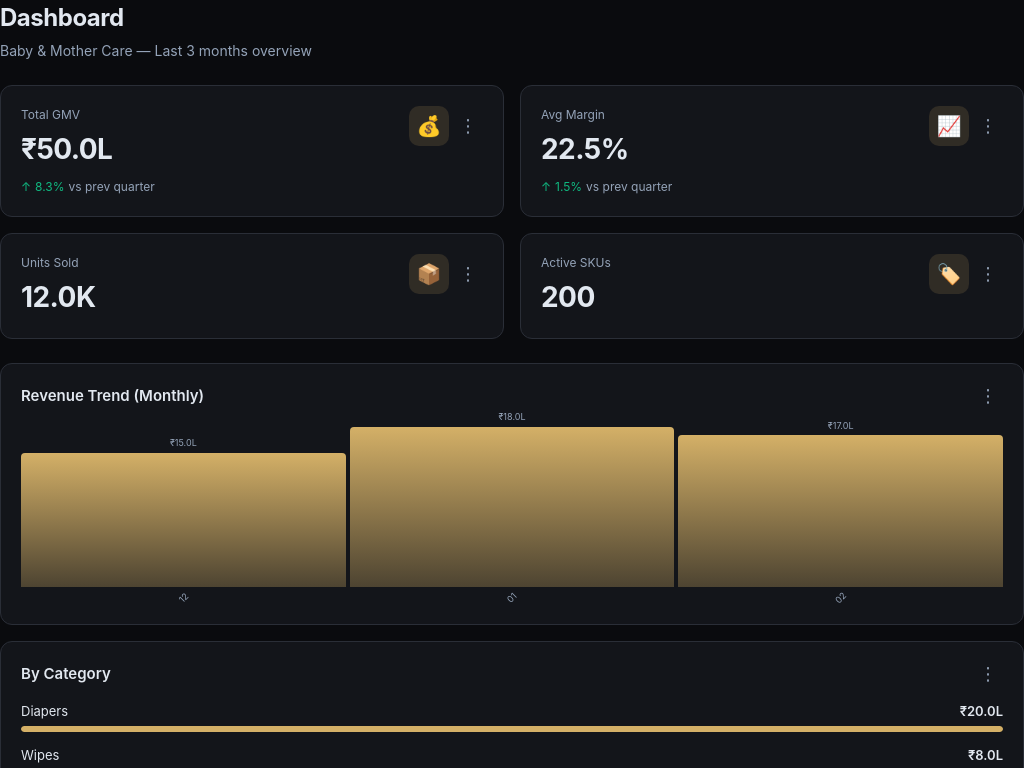
Scenario: Dashboard page › shows actions modal with 3 LLM-generated actions when Actions button clicked
Expected: the text "Total GMV" is shown, 21,107 -> 80,122
Click the button titled "Options" in the row of "₹50.0L": coordinates (468, 126) 453,115 -> 483,137
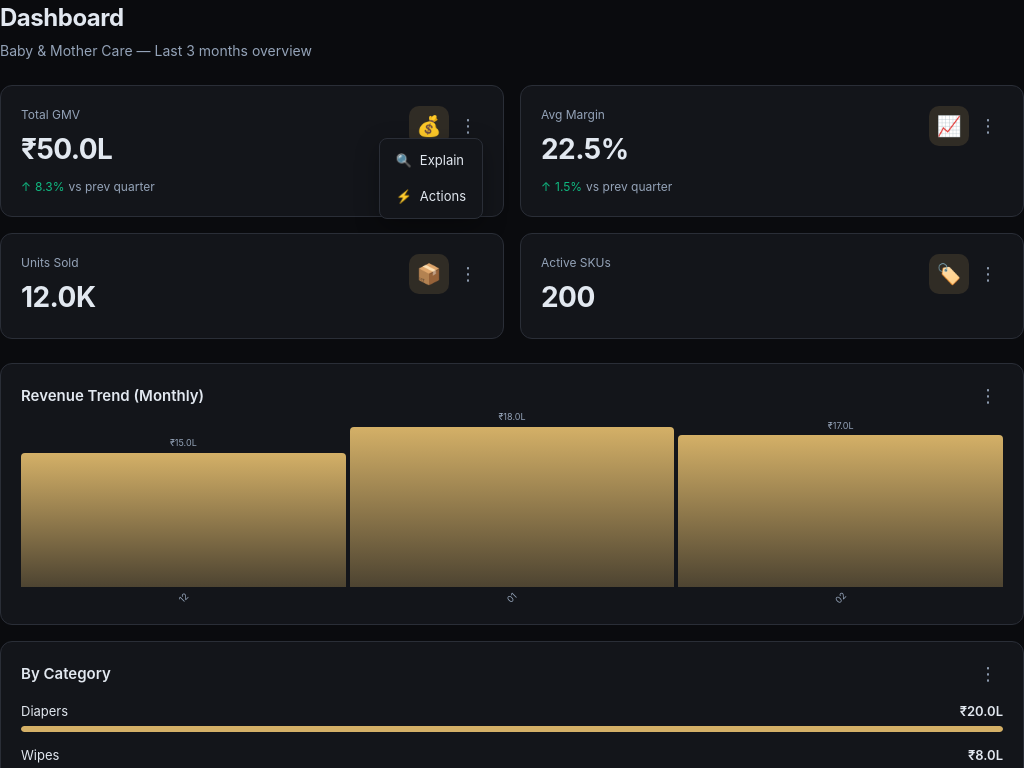
Expected: the element with class "explain-dropdown" is shown, 379,138 -> 483,219
Click the button "⚡ Actions": coordinates (431, 196) 384,178 -> 478,214
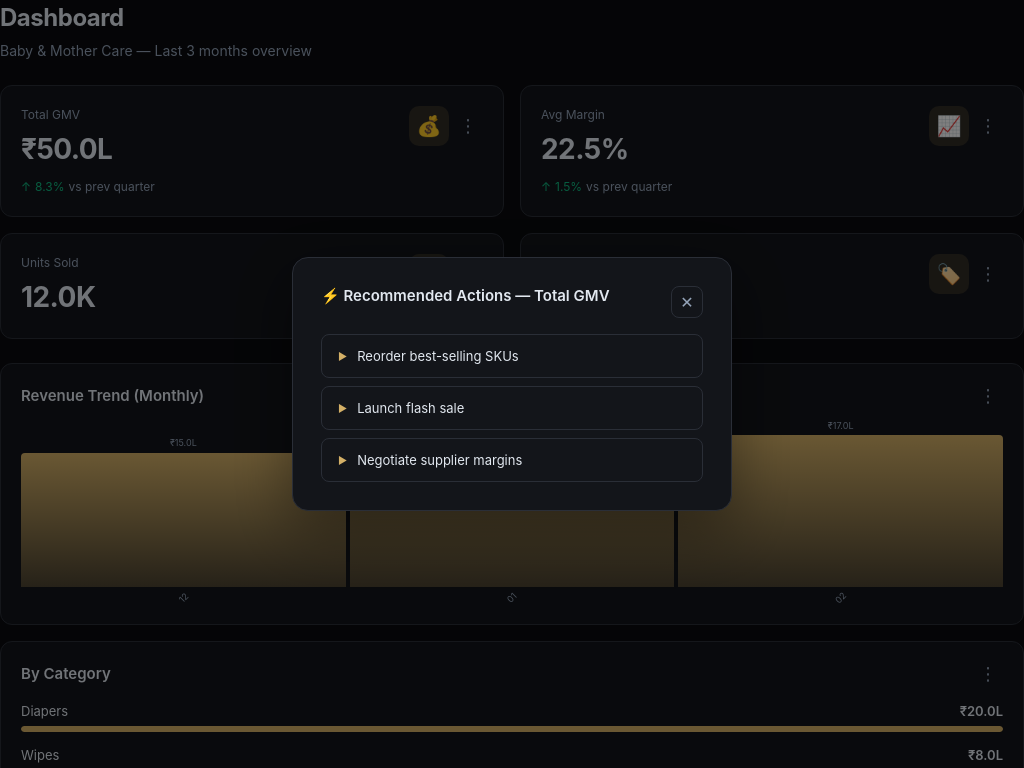
Expected: the text "analyzing" is shown, 321,334 -> 703,482
Expected: the text "Reorder best-selling SKUs" is shown, 357,348 -> 519,364
Expected: the text "Launch flash sale" is shown, 357,400 -> 464,416
